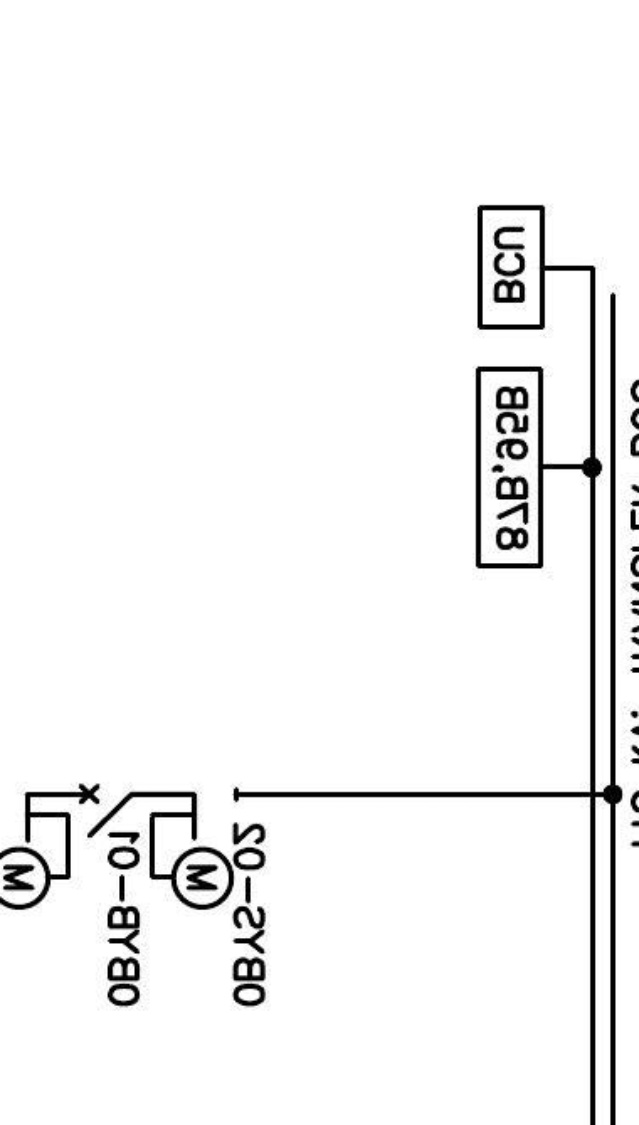115_1way_ds_w_motor: (149, 786, 240, 912)
115_breaker: (78, 783, 134, 838)
BCU: (476, 203, 546, 331)
